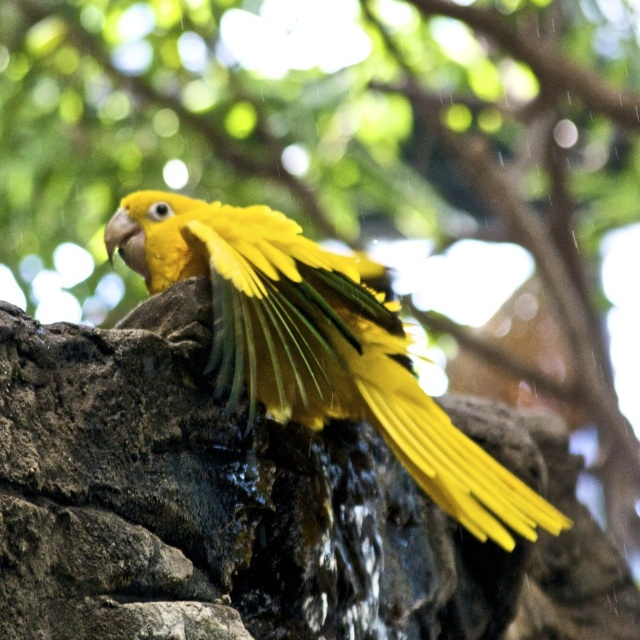Parrot: (113, 170, 579, 544)
